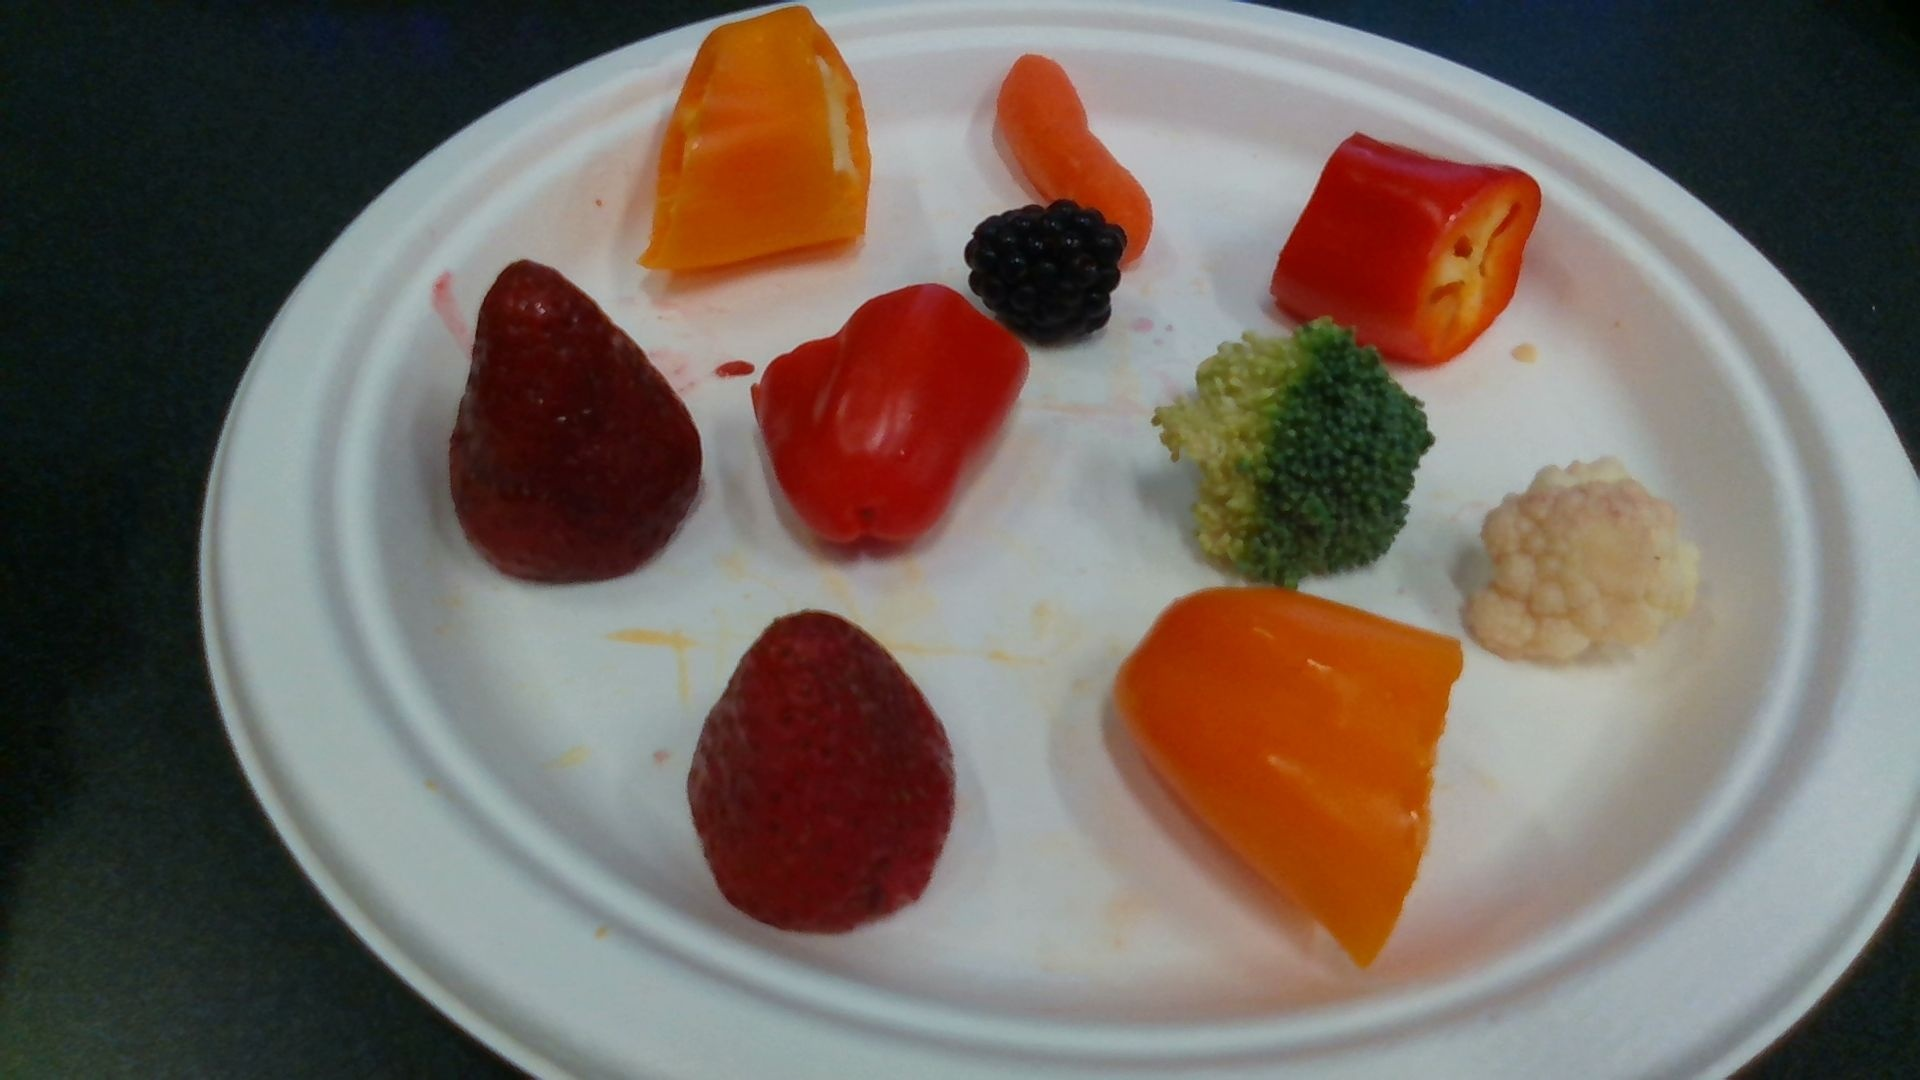bell_pepper: (1114, 588, 1458, 961), (754, 286, 1029, 549), (1269, 135, 1540, 367), (647, 11, 870, 268)
blackberry: (965, 203, 1127, 343)
broccoli: (1154, 320, 1429, 589)
carrot: (994, 55, 1153, 262)
cauliflower: (1465, 456, 1697, 666)
strawberry: (690, 611, 953, 928), (450, 258, 700, 583)
